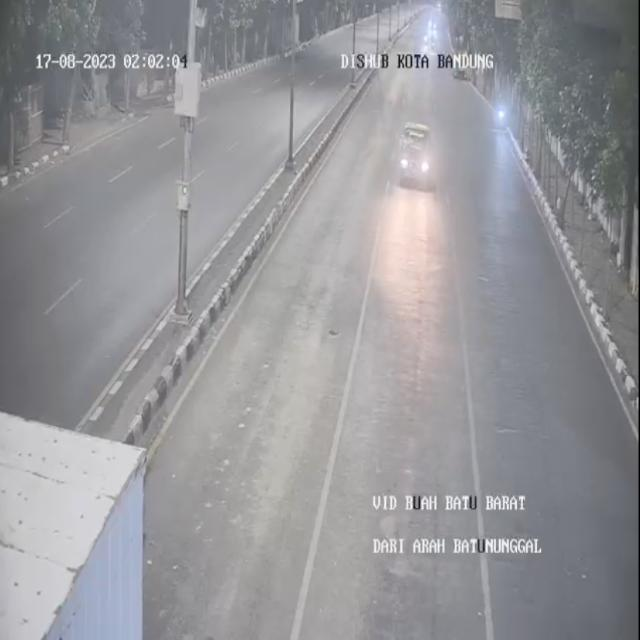cars: (393, 108, 443, 198)
